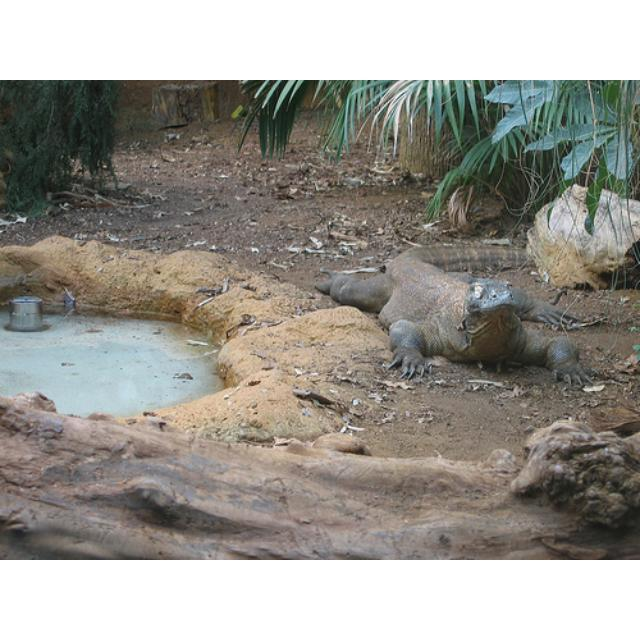KomodoDragon: (315, 230, 587, 384)
